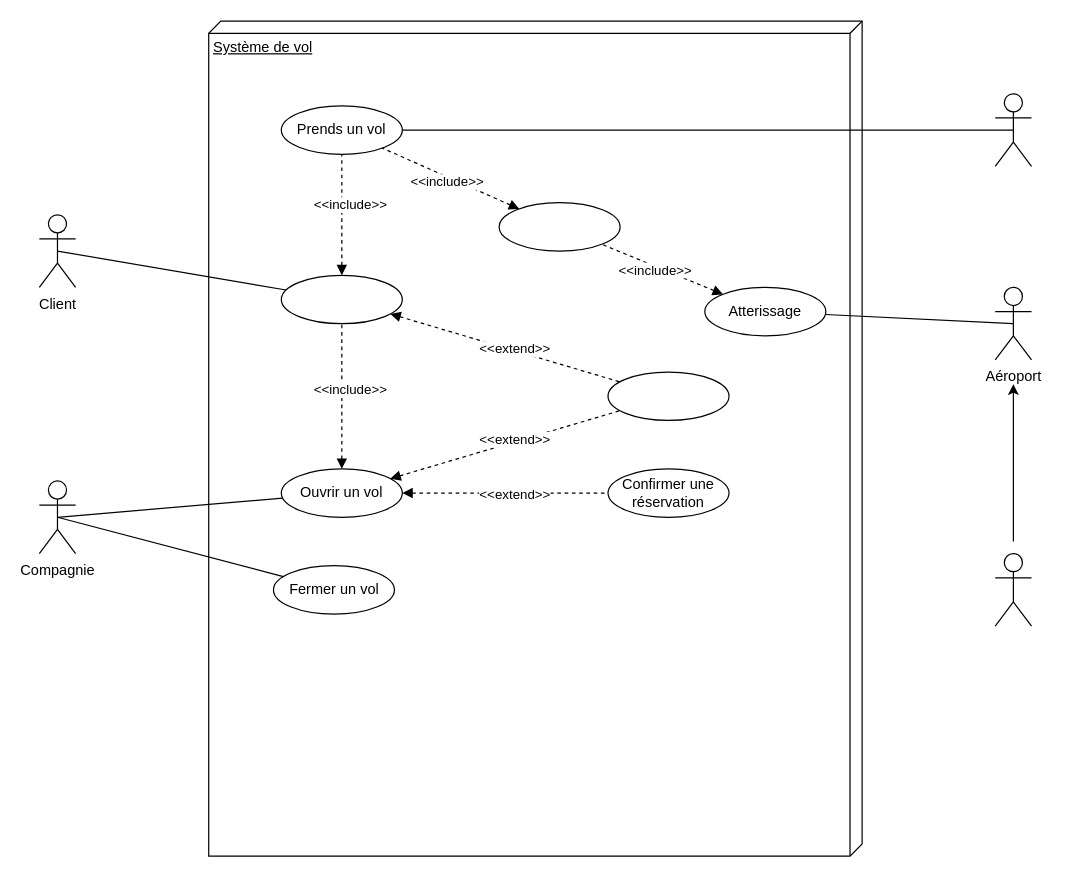
Some shapes in this 1065 by 877 pixel diagram are drawn without their labels. Here are the shapes that lost their labels. From the top down, the centre of each, then its label:
At (x=1013, y=129): "Passager".
At (x=559, y=226): "Décollage".
At (x=341, y=299): "Réserver un vol".
At (x=668, y=395): "Annuler une réservation".
At (x=1013, y=589): "Escale".
